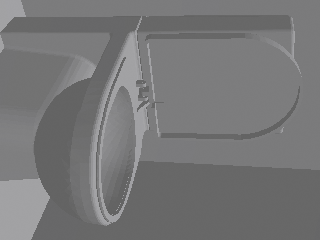lid_1: (145, 33, 302, 140)
